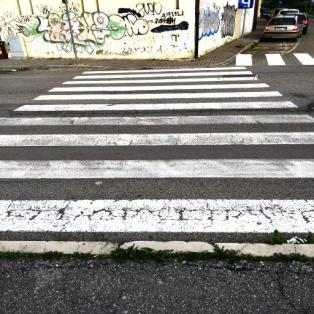Paso de Cebra: (0, 128, 314, 185), (6, 90, 302, 115), (70, 67, 259, 81), (265, 51, 313, 67)
